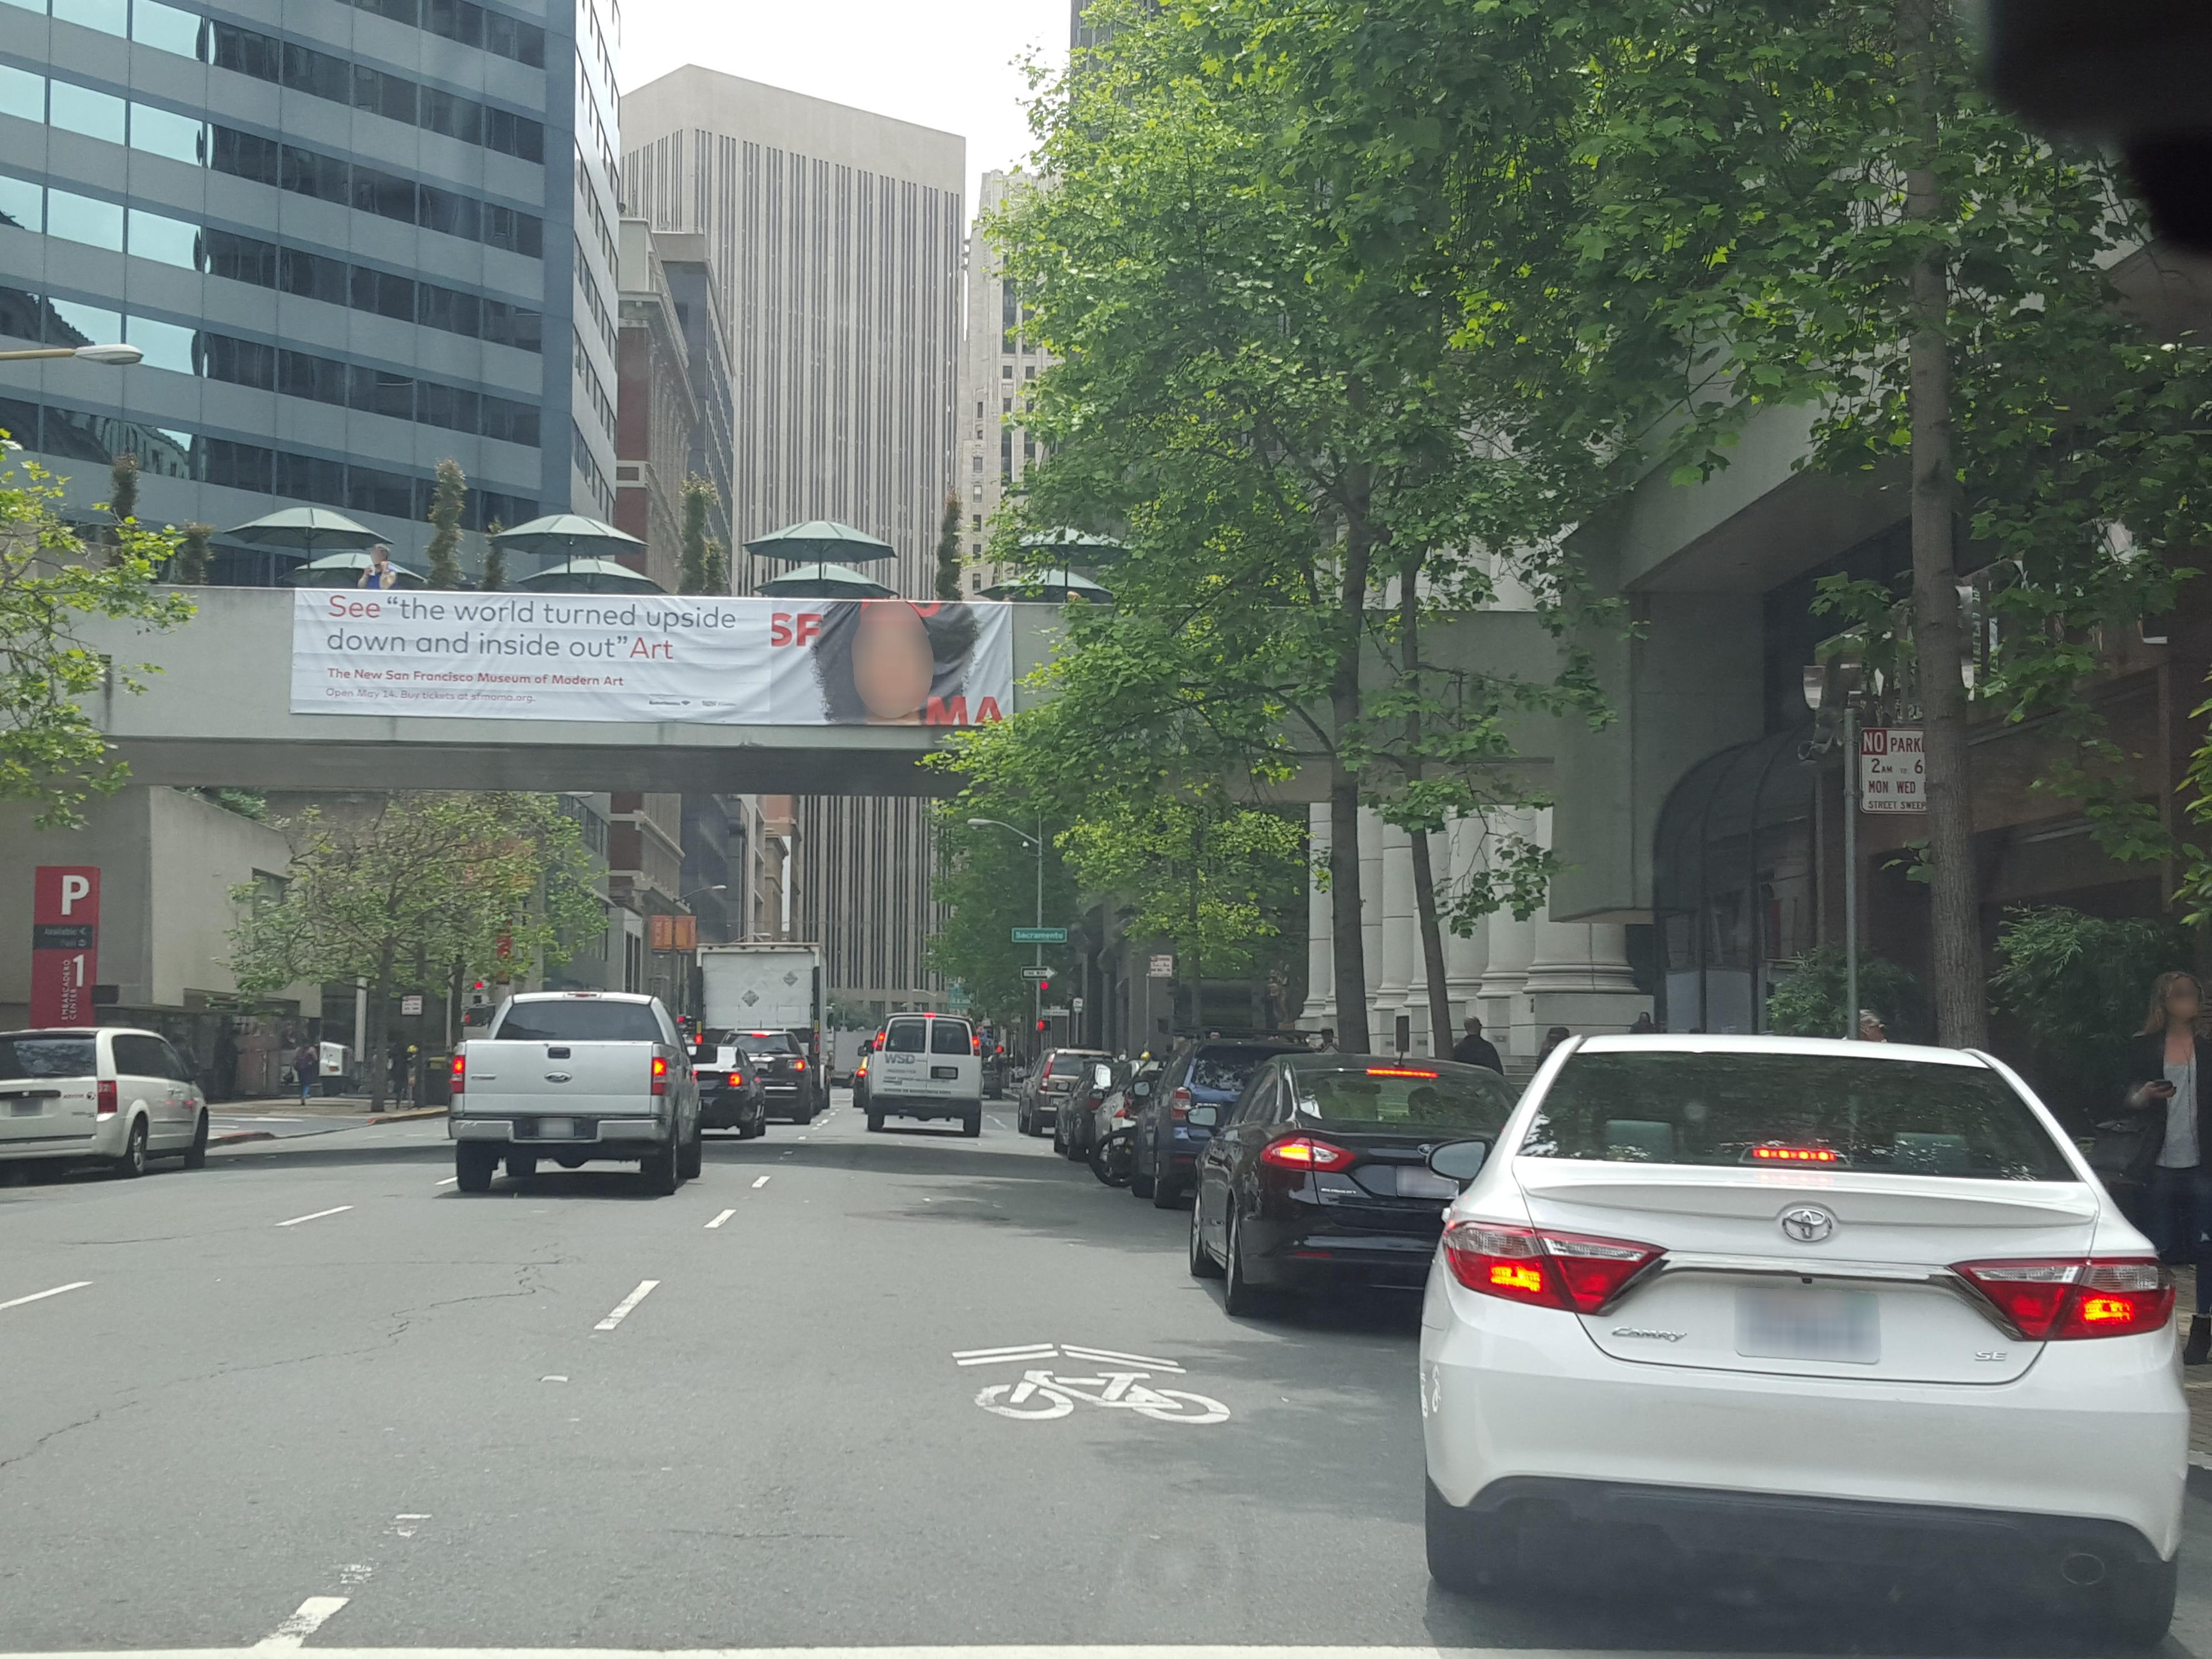vinyl banner: (282, 568, 1028, 755)
